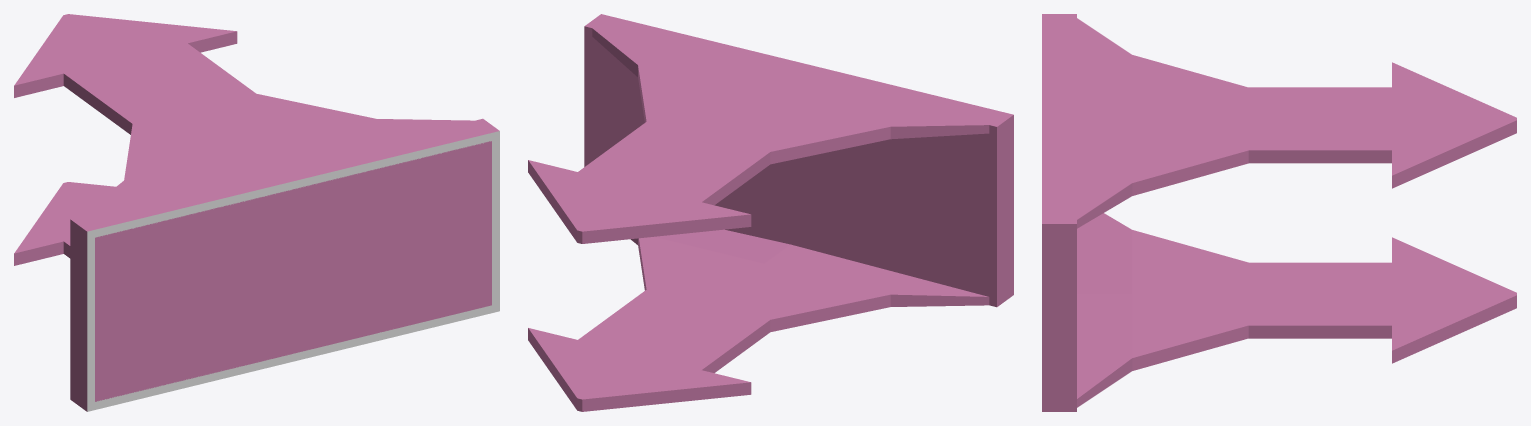
The model's file is RingPanel.fbx.
3 renders of one model, left to right at view 1: azimuth 30°, elevation 25°; view 2: azimuth 150°, elevation 25°; view 3: azimuth 270°, elevation 25°, orthographic. The views are drawn at different scales.
Parts seen in each view (by area): view 1: Cube; view 2: Cube; view 3: Cube.
Part boxes in pixels (bbox=[...]): Cube: bbox=[14, 14, 499, 411]; Cube: bbox=[528, 14, 1013, 411]; Cube: bbox=[1042, 14, 1516, 411].
Bounding box in the file's own units: 215 × 89.67 × 205.
